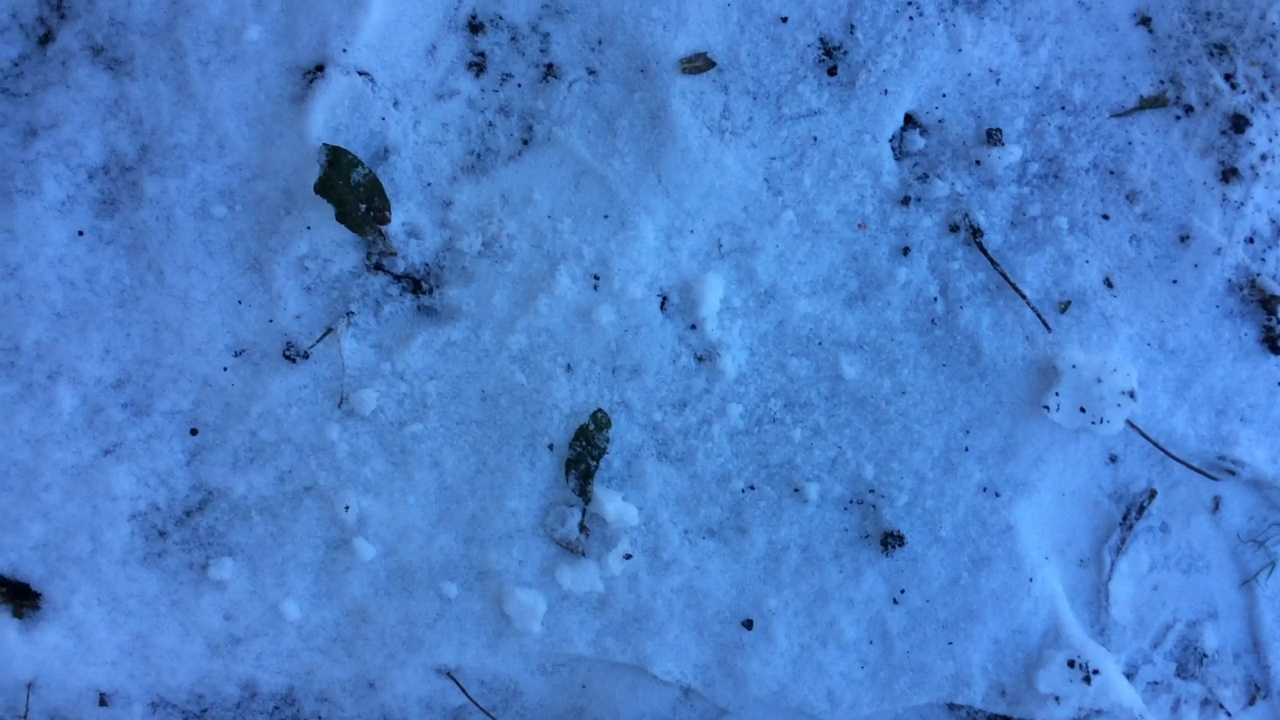root: (370, 226, 416, 286), (567, 515, 601, 552)
rumex: (305, 137, 411, 292), (553, 400, 628, 546)
